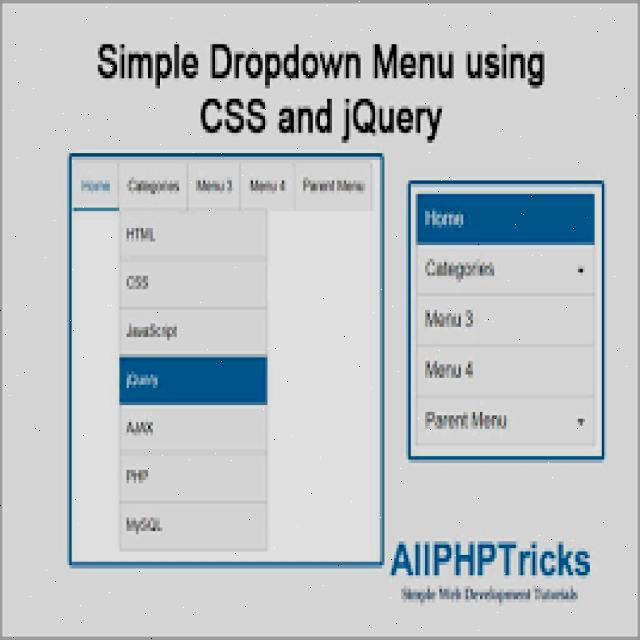dropdownMenu: (69, 153, 384, 565), (417, 193, 596, 244)
menuItem: (416, 399, 594, 447), (418, 244, 592, 292), (119, 354, 269, 405), (120, 306, 266, 354), (117, 208, 263, 255), (122, 450, 262, 498), (117, 261, 263, 301), (124, 503, 262, 544), (120, 411, 261, 448), (418, 295, 502, 343), (422, 353, 496, 395)
